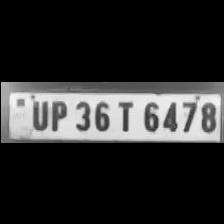3: (70, 97, 90, 130)
4: (159, 98, 179, 132)
6: (90, 97, 112, 131), (138, 98, 160, 132)
7: (178, 97, 196, 131)
8: (196, 100, 218, 132)
P: (46, 97, 68, 130)
T: (114, 97, 136, 131)
U: (26, 97, 48, 129)
